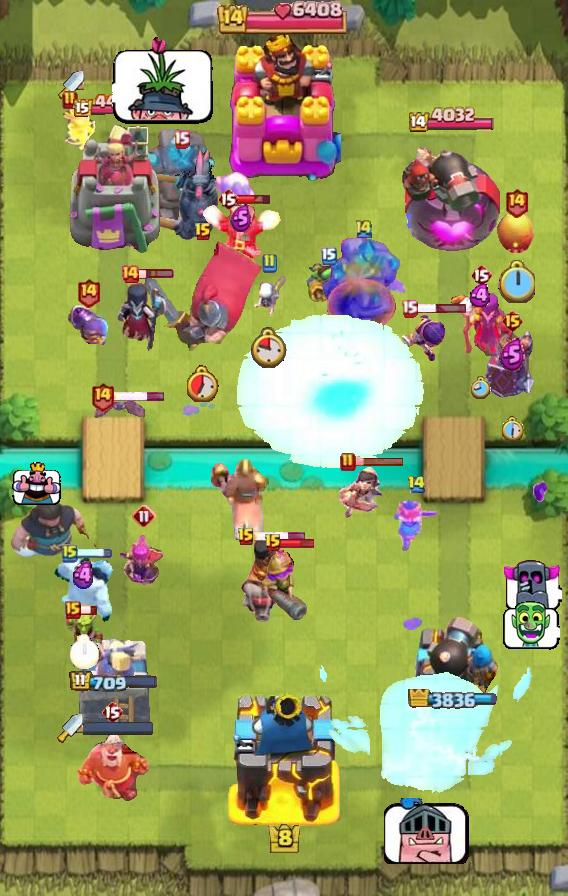axe: (449, 290, 513, 356)
bar: (67, 122, 161, 256), (77, 637, 151, 731)
barbarian-barrel: (90, 396, 146, 422)
bomb-tower: (256, 546, 312, 624)
cannon: (63, 103, 97, 151)
cannoneer-tower: (127, 128, 217, 230), (319, 236, 409, 326)
clock: (217, 0, 351, 34)
electro-spirit: (499, 337, 525, 370), (70, 561, 98, 590), (230, 204, 252, 232), (469, 284, 493, 308)
elite-barbarian: (240, 536, 284, 622)
elixir: (498, 260, 535, 303), (251, 328, 287, 369), (187, 365, 219, 402), (69, 635, 99, 670), (500, 416, 524, 442), (471, 376, 491, 400)
elixir-collector: (73, 729, 151, 803)
elixir-golem-big: (485, 321, 539, 401)
emote: (415, 302, 467, 314), (353, 456, 405, 468), (114, 390, 167, 401), (254, 530, 307, 541), (75, 547, 113, 559), (138, 268, 175, 280), (236, 193, 272, 205), (280, 539, 316, 550), (78, 604, 98, 616)
evolution-symbol: (120, 531, 168, 593)
firecracker-evolution: (67, 302, 109, 345)
freeze: (211, 458, 269, 540)
giant-snowball: (305, 261, 353, 303)
goblin-ball: (398, 310, 446, 364)
golemite: (144, 148, 218, 242)
heal-spirit: (250, 272, 289, 324)
hog: (496, 211, 536, 255)
hog-rider: (392, 499, 440, 553)
king-tower: (227, 29, 341, 181), (226, 688, 342, 826)
king-tower-bar: (83, 721, 155, 735)
mega-knight: (233, 311, 430, 473), (316, 651, 532, 797)
mirror: (211, 170, 261, 208)
mortar: (198, 203, 284, 277)
rage: (54, 557, 114, 623)
rascal-boy: (114, 279, 170, 357)
royal-hog: (11, 497, 103, 559)
selected: (409, 106, 497, 135), (72, 93, 156, 120), (69, 670, 159, 694), (408, 689, 498, 709)
skeleton: (112, 34, 216, 127), (384, 798, 471, 864), (502, 558, 563, 612), (502, 602, 560, 651), (11, 462, 60, 506)
skeleton-dragon: (334, 464, 384, 520)
text: (504, 186, 529, 217), (76, 277, 101, 308), (89, 380, 114, 411), (132, 504, 156, 528), (500, 309, 523, 333), (217, 187, 239, 211), (470, 263, 492, 287), (101, 700, 123, 724), (354, 217, 374, 238), (120, 264, 140, 284), (406, 475, 425, 494), (194, 222, 212, 242), (237, 527, 255, 547), (264, 533, 282, 553), (401, 299, 419, 317), (62, 90, 78, 110), (261, 253, 277, 273), (340, 452, 356, 472), (62, 543, 78, 563), (174, 131, 191, 149), (321, 247, 337, 265), (65, 601, 81, 619)
tower-bar: (402, 136, 504, 256), (403, 615, 503, 731)
wall-breaker-evolution: (143, 238, 265, 352)
zap: (62, 611, 104, 653)
